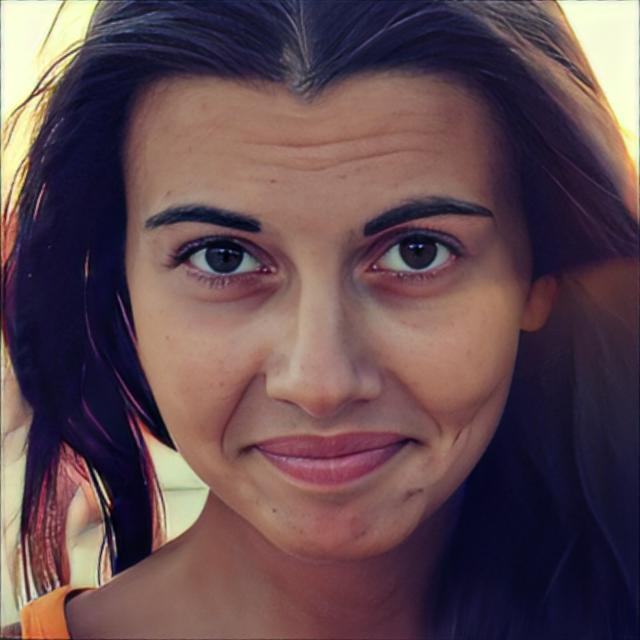happy: (120, 56, 524, 572)
